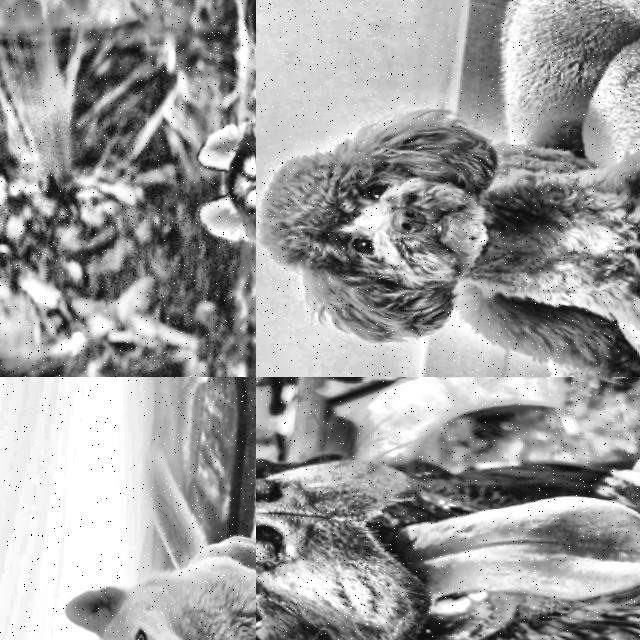husky: (22, 546, 234, 640), (170, 88, 256, 296)
poodle: (256, 81, 555, 377)
rottweiler: (256, 409, 640, 640)
